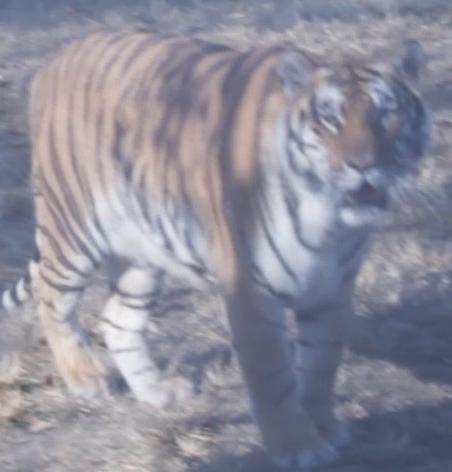tiger: (2, 30, 430, 466)
